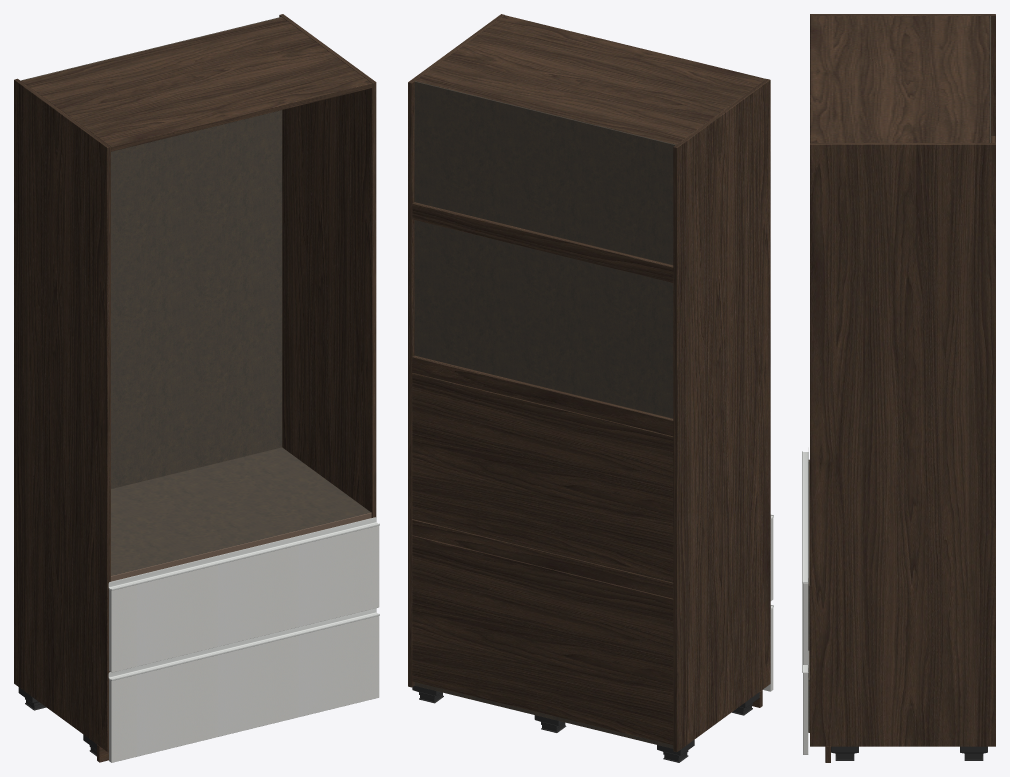
The picture shows the model from 3 angles, left to right: view 1: azimuth 30°, elevation 25°; view 2: azimuth 150°, elevation 25°; view 3: azimuth 270°, elevation 25°; orthographic projection.
Parts seen in each view (by area): view 1: HK1001185; view 2: HK1001185; view 3: HK1001185.
Boxes of the visible parts, x1,y1,x2,y2 form: HK1001185: (14, 14, 379, 762); HK1001185: (408, 14, 773, 762); HK1001185: (802, 14, 995, 762).
Bounding box in the file's own units: 1 × 2.2 × 0.6256.
8 materials, 7 textured.
